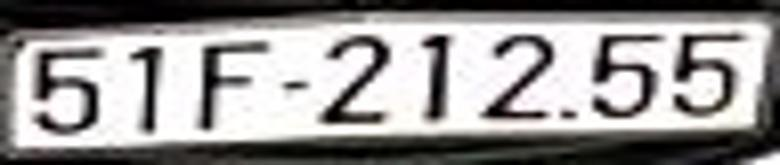-: (279, 75, 313, 90)
.: (559, 104, 579, 123)
1: (420, 29, 449, 118), (128, 46, 157, 130)
2: (475, 32, 551, 122), (318, 31, 389, 125)
5: (589, 26, 661, 121), (32, 49, 109, 133), (672, 29, 747, 115)
F: (200, 40, 273, 130)
